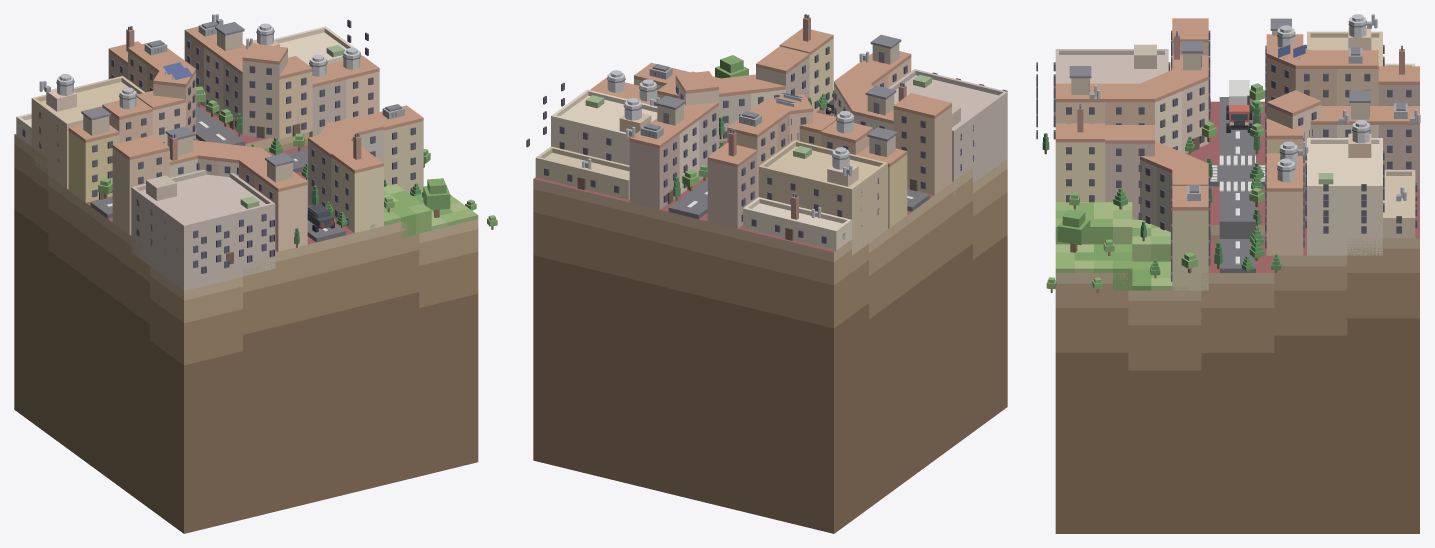
The model's file is block_15_wetlands_0.glb.
3 views of the same model, side by side, from view 1: azimuth 30°, elevation 25°; view 2: azimuth 150°, elevation 25°; view 3: azimuth 270°, elevation 25° (orthographic). The views are drawn at different scales.
Visible parts, largest first — view 1: Patch_MidRight_b16_WL, Cerda_MidRight_b16_WL, Insets_MidRight_b16_WL, CerdaRoofProps_MidRight_b16_WL, Green_MidRight_b16_WL, Roads_MidRight_b16_WL, Asset_Tree_Round.063_WL, Asset_Car.031_WL; view 2: Patch_MidRight_b16_WL, Cerda_MidRight_b16_WL, Insets_MidRight_b16_WL, CerdaRoofProps_MidRight_b16_WL, Roads_MidRight_b16_WL, Asset_Tree_Round.063_WL; view 3: Patch_MidRight_b16_WL, Cerda_MidRight_b16_WL, Insets_MidRight_b16_WL, Green_MidRight_b16_WL, CerdaRoofProps_MidRight_b16_WL, Roads_MidRight_b16_WL, Asset_Truck.008_WL, Asset_Tree_Round.063_WL, Zebra_MidRight_b16_WL.
Part boxes in pixels (bbox=[...]): Patch_MidRight_b16_WL: bbox=[14, 102, 478, 533]; Cerda_MidRight_b16_WL: bbox=[68, 26, 423, 251]; Insets_MidRight_b16_WL: bbox=[16, 19, 368, 290]; CerdaRoofProps_MidRight_b16_WL: bbox=[39, 14, 404, 182]; Green_MidRight_b16_WL: bbox=[370, 184, 478, 237]; Roads_MidRight_b16_WL: bbox=[90, 105, 345, 242]; Asset_Tree_Round.063_WL: bbox=[423, 178, 450, 217]; Asset_Car.031_WL: bbox=[307, 204, 334, 232]; Patch_MidRight_b16_WL: bbox=[533, 107, 1007, 533]; Cerda_MidRight_b16_WL: bbox=[590, 28, 951, 228]; Insets_MidRight_b16_WL: bbox=[526, 69, 1007, 255]; CerdaRoofProps_MidRight_b16_WL: bbox=[582, 14, 906, 219]; Roads_MidRight_b16_WL: bbox=[668, 109, 929, 219]; Asset_Tree_Round.063_WL: bbox=[715, 55, 748, 78]; Patch_MidRight_b16_WL: bbox=[1055, 101, 1419, 533]; Cerda_MidRight_b16_WL: bbox=[1055, 18, 1419, 290]; Insets_MidRight_b16_WL: bbox=[1036, 27, 1417, 255]; Green_MidRight_b16_WL: bbox=[1055, 202, 1189, 290]; CerdaRoofProps_MidRight_b16_WL: bbox=[1069, 14, 1420, 201]; Roads_MidRight_b16_WL: bbox=[1210, 97, 1264, 272]; Asset_Truck.008_WL: bbox=[1226, 80, 1252, 132]; Asset_Tree_Round.063_WL: bbox=[1057, 209, 1090, 252]; Zebra_MidRight_b16_WL: bbox=[1210, 155, 1265, 191].
Size of the model in its own units: 10.04 by 11.2 by 10.01.
